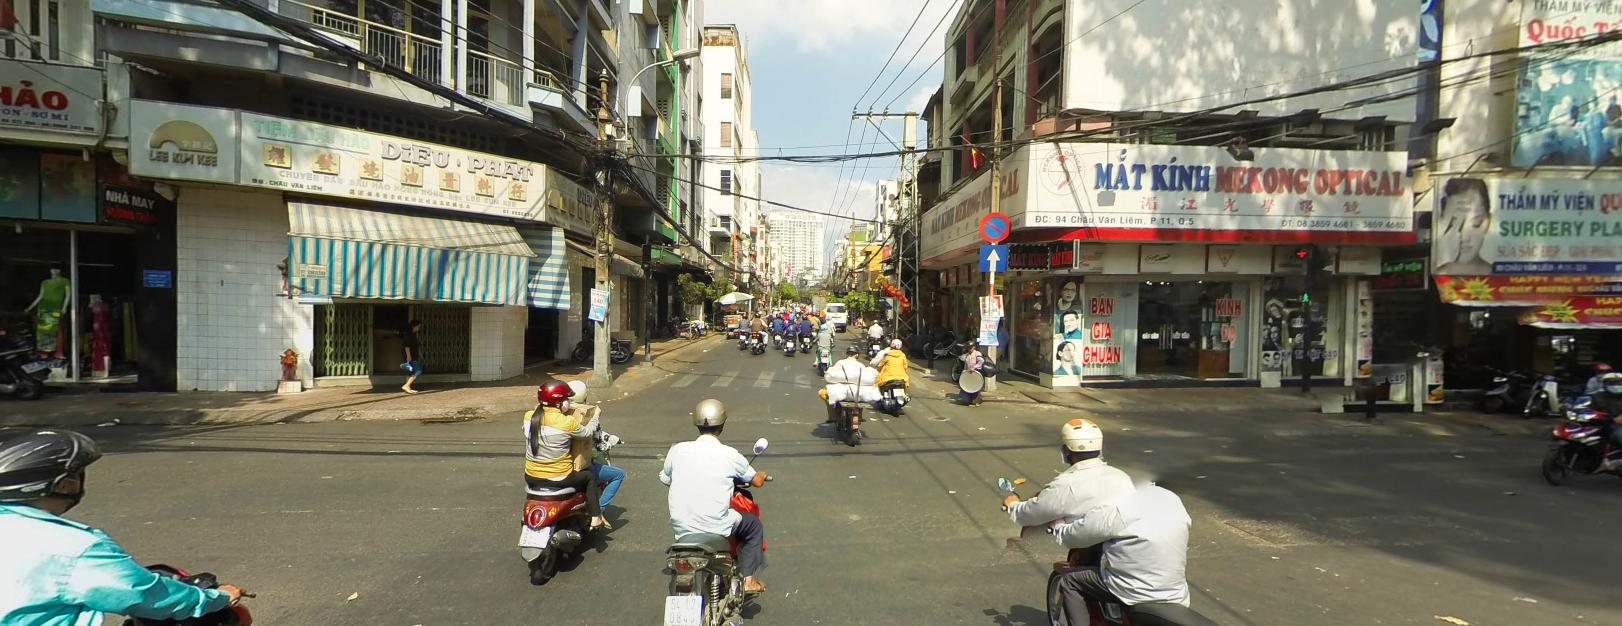Cam dung va do: (978, 210, 1011, 239)
